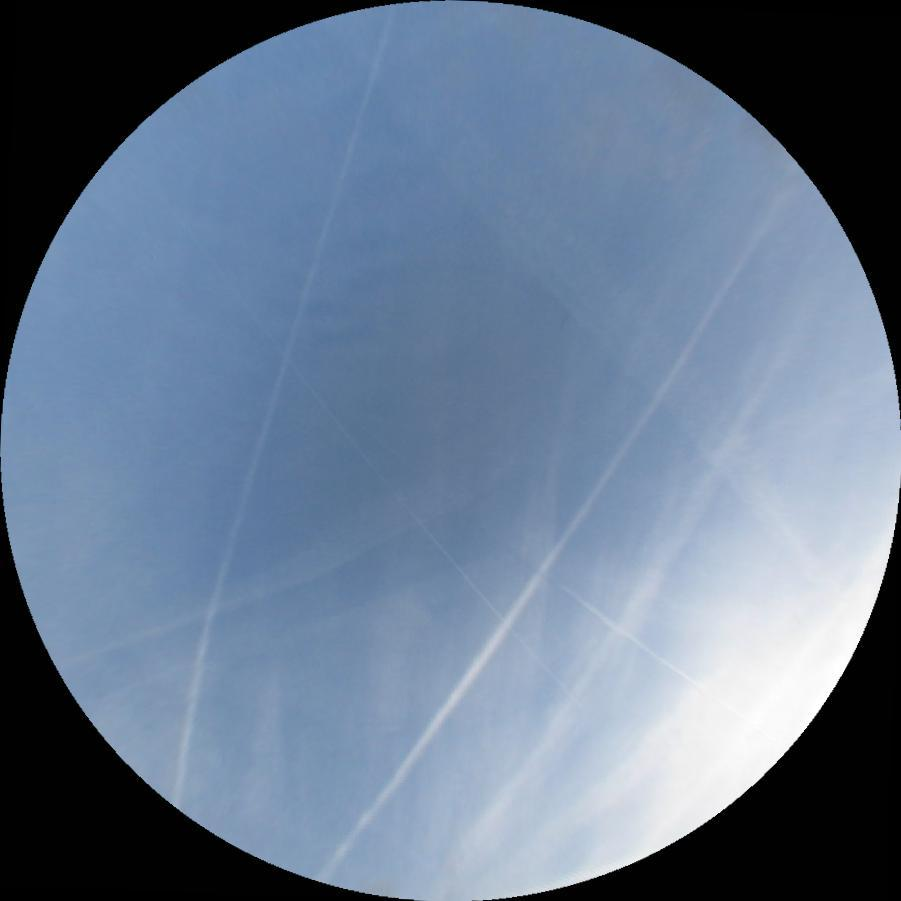contrail old: (316, 173, 805, 891), (152, 0, 398, 810)
contrail veryold: (429, 290, 833, 901), (371, 59, 843, 576), (60, 466, 473, 699)
contrail young: (252, 322, 583, 714), (553, 576, 792, 746)
